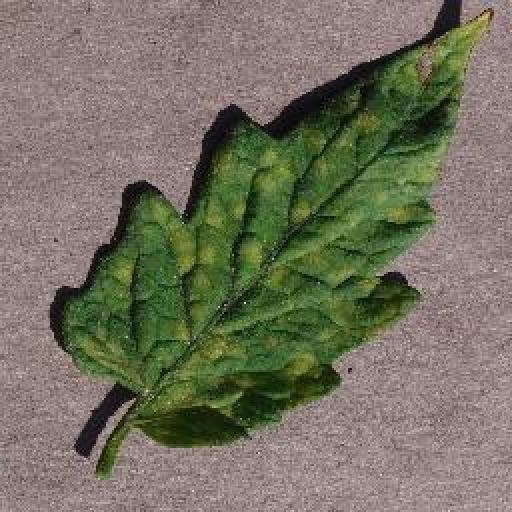disease_tomato: (56, 6, 495, 454)
